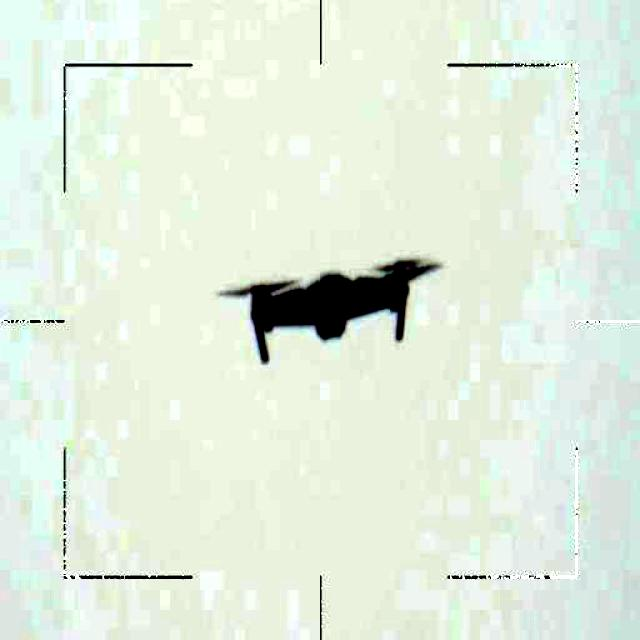bird: (210, 248, 445, 368)
